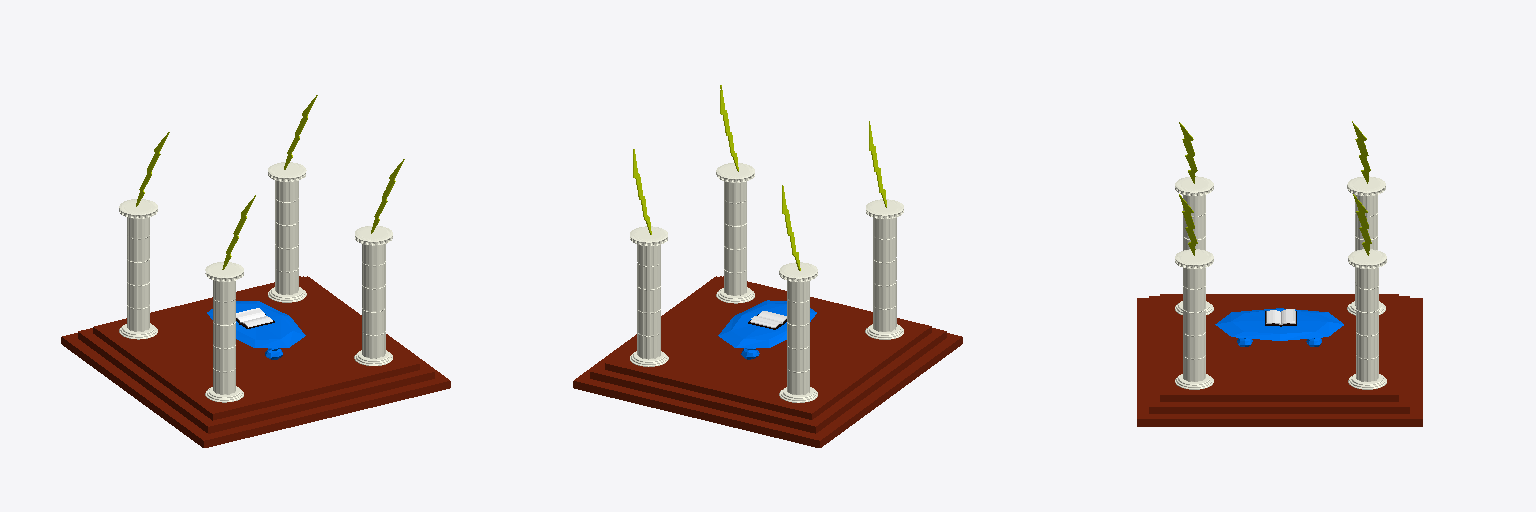
The model's file is LightningALTAR1.obj.
3 renders of one model, left to right at view 1: azimuth 30°, elevation 25°; view 2: azimuth 150°, elevation 25°; view 3: azimuth 270°, elevation 25°, orthographic.
Parts seen in each view (by area): view 1: DucksALTAR2:MushroomsALTAR1:altar:pCube15 DucksALTAR2:MushroomsA, DucksALTAR2:MushroomsALTAR1:altar:polySurface29 DucksALTAR2:Mush, DucksALTAR2:MushroomsALTAR1:altar:pCylinder9, DucksALTAR2:MushroomsALTAR1:altar:pCylinder10, DucksALTAR2:MushroomsALTAR1:altar:pCylinder12, DucksALTAR2:MushroomsALTAR1:altar:pCylinder11, DucksALTAR2:MushroomsALTAR1:altar:polySurface26 DucksALTAR2:Mush; view 2: DucksALTAR2:MushroomsALTAR1:altar:pCube15 DucksALTAR2:MushroomsA, DucksALTAR2:MushroomsALTAR1:altar:polySurface29 DucksALTAR2:Mush, DucksALTAR2:MushroomsALTAR1:altar:pCylinder11, DucksALTAR2:MushroomsALTAR1:altar:pCylinder9, DucksALTAR2:MushroomsALTAR1:altar:pCylinder10, DucksALTAR2:MushroomsALTAR1:altar:pCylinder12, DucksALTAR2:MushroomsALTAR1:altar:polySurface26 DucksALTAR2:Mush; view 3: DucksALTAR2:MushroomsALTAR1:altar:pCube15 DucksALTAR2:MushroomsA, DucksALTAR2:MushroomsALTAR1:altar:polySurface29 DucksALTAR2:Mush, DucksALTAR2:MushroomsALTAR1:altar:pCylinder10, DucksALTAR2:MushroomsALTAR1:altar:pCylinder9, DucksALTAR2:MushroomsALTAR1:altar:polySurface26 DucksALTAR2:Mush, DucksALTAR2:MushroomsALTAR1:altar:pCylinder12, DucksALTAR2:MushroomsALTAR1:altar:pCylinder11.
Part boxes in pixels (x1,y1,x2,y2): DucksALTAR2:MushroomsALTAR1:altar:pCube15 DucksALTAR2:MushroomsA: (78,276,434,433); DucksALTAR2:MushroomsALTAR1:altar:polySurface29 DucksALTAR2:Mush: (61,276,450,447); DucksALTAR2:MushroomsALTAR1:altar:pCylinder9: (268,162,306,302); DucksALTAR2:MushroomsALTAR1:altar:pCylinder10: (354,226,392,365); DucksALTAR2:MushroomsALTAR1:altar:pCylinder12: (119,199,157,339); DucksALTAR2:MushroomsALTAR1:altar:pCylinder11: (205,262,243,402); DucksALTAR2:MushroomsALTAR1:altar:polySurface26 DucksALTAR2:Mush: (207,301,305,359); DucksALTAR2:MushroomsALTAR1:altar:pCube15 DucksALTAR2:MushroomsA: (590,276,946,433); DucksALTAR2:MushroomsALTAR1:altar:polySurface29 DucksALTAR2:Mush: (573,276,962,447); DucksALTAR2:MushroomsALTAR1:altar:pCylinder11: (865,199,903,339); DucksALTAR2:MushroomsALTAR1:altar:pCylinder9: (630,226,668,366); DucksALTAR2:MushroomsALTAR1:altar:pCylinder10: (716,163,754,303); DucksALTAR2:MushroomsALTAR1:altar:pCylinder12: (779,262,817,402); DucksALTAR2:MushroomsALTAR1:altar:polySurface26 DucksALTAR2:Mush: (718,300,816,359); DucksALTAR2:MushroomsALTAR1:altar:pCube15 DucksALTAR2:MushroomsA: (1149,294,1409,413); DucksALTAR2:MushroomsALTAR1:altar:polySurface29 DucksALTAR2:Mush: (1137,298,1422,426); DucksALTAR2:MushroomsALTAR1:altar:pCylinder10: (1175,249,1213,389); DucksALTAR2:MushroomsALTAR1:altar:pCylinder9: (1348,249,1386,389); DucksALTAR2:MushroomsALTAR1:altar:polySurface26 DucksALTAR2:Mush: (1215,308,1343,346); DucksALTAR2:MushroomsALTAR1:altar:pCylinder12: (1347,176,1385,315); DucksALTAR2:MushroomsALTAR1:altar:pCylinder11: (1175,176,1213,314).
Bounding box in the file's own units: 13.82 × 11.81 × 13.82.